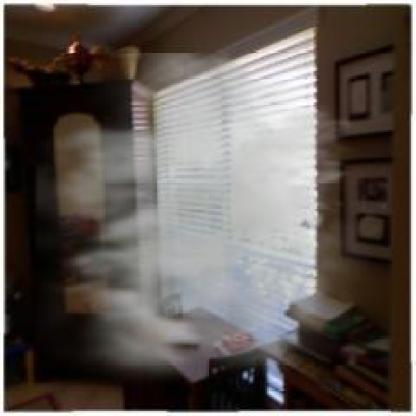Smoke: (35, 51, 387, 400)
